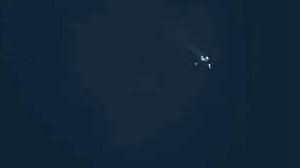Plane: (170, 37, 235, 77)
